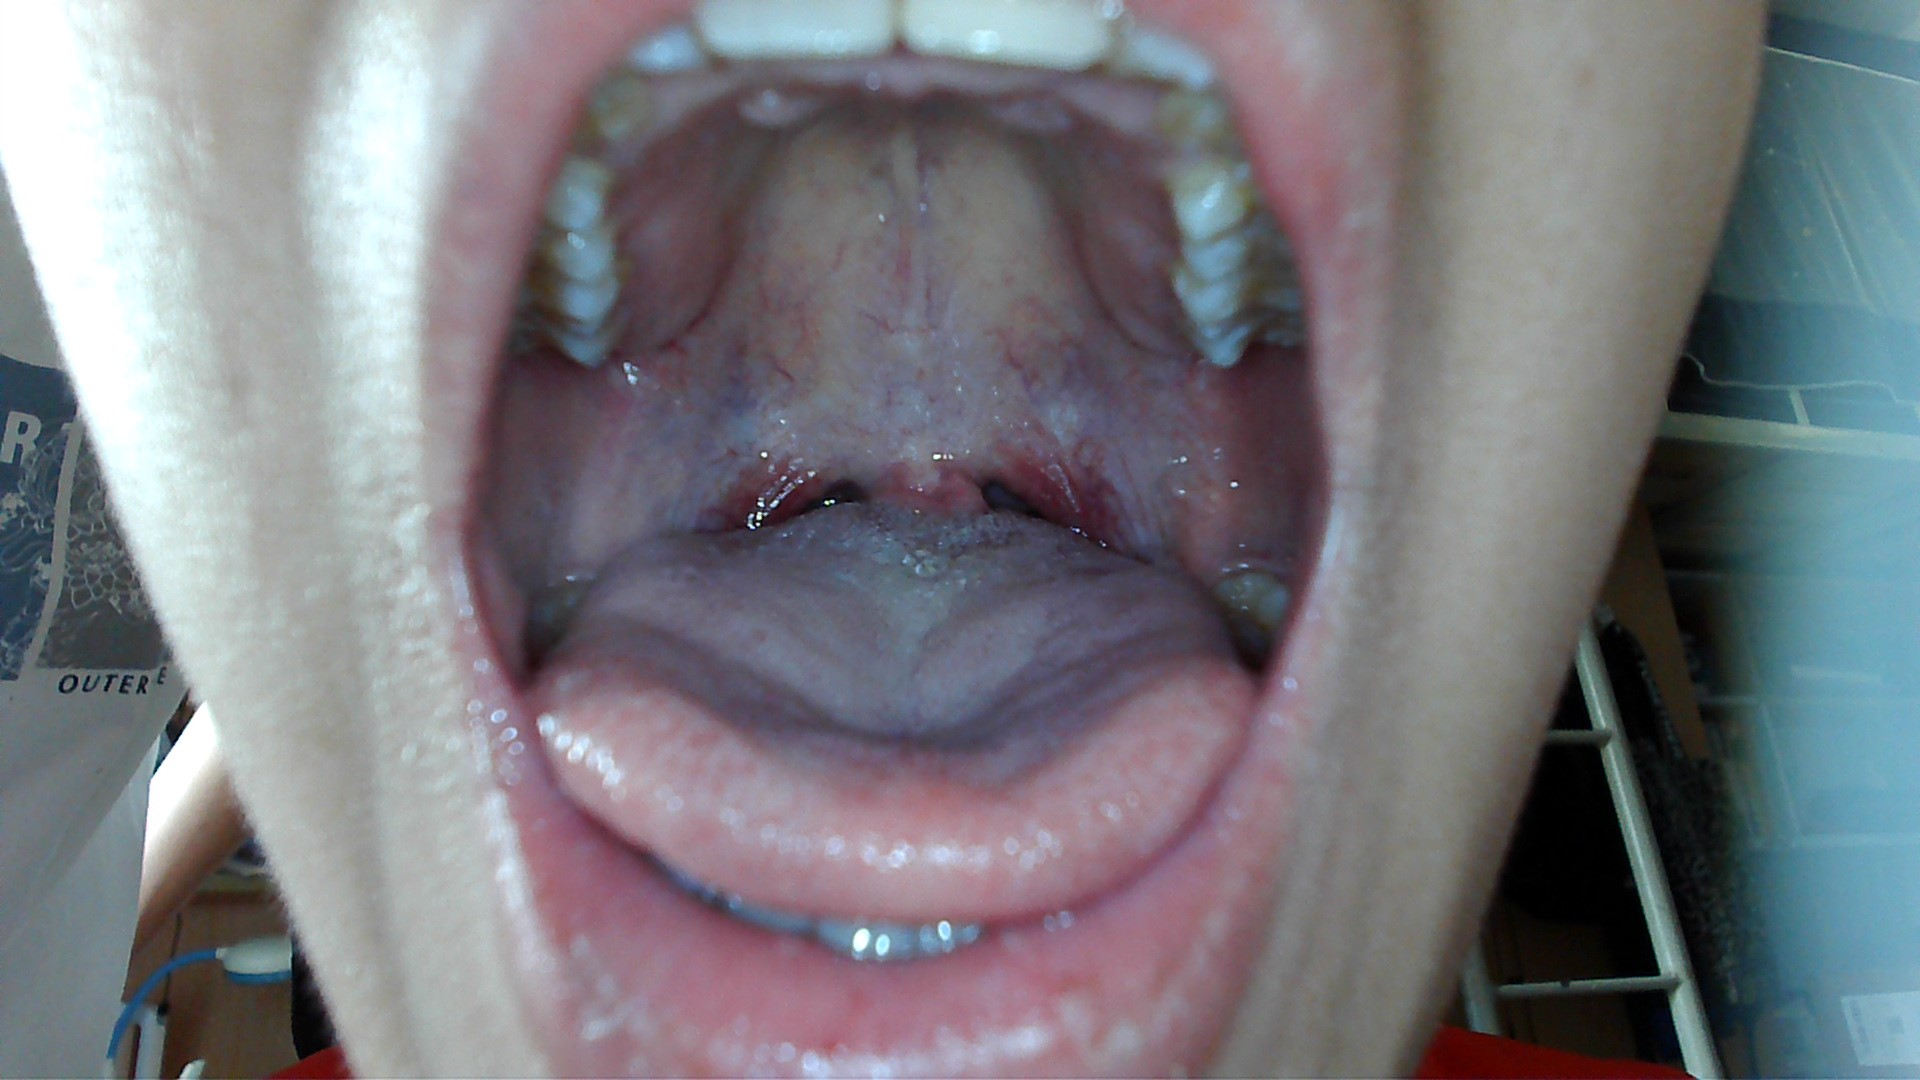throat: (990, 433, 1114, 545), (702, 444, 858, 531)
